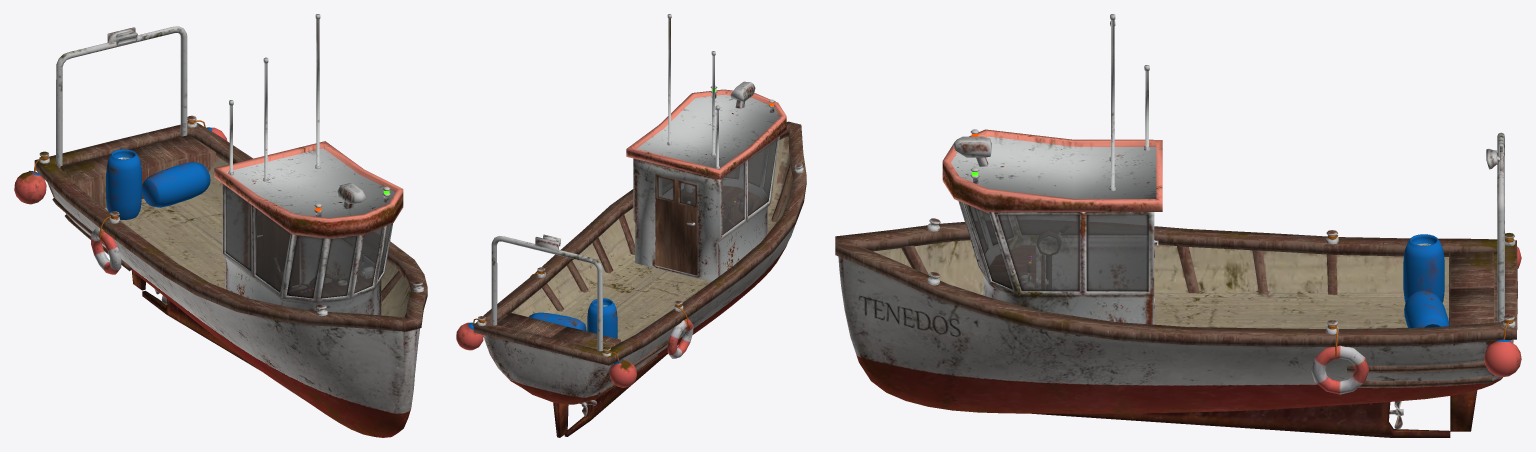
The model's file is fishing-boat.glb.
3 renders of one model, left to right at view 1: azimuth 30°, elevation 25°; view 2: azimuth 150°, elevation 25°; view 3: azimuth 270°, elevation 25°, orthographic. The views are drawn at different scales.
Parts seen in each view (by area): view 1: Cube.022_Metal_0, Cube.022_Wood_0, Cube.022_MainColor_0, Cube.022_Glass_0, Cube.022_Plastic_0; view 2: Cube.022_Wood_0, Cube.022_Metal_0, Cube.022_MainColor_0, Cube.022_Glass_0, Cube.022_Plastic_0; view 3: Cube.022_MainColor_0, Cube.022_Wood_0, Cube.022_Metal_0, Cube.022_Glass_0, Cube.022_Plastic_0.
Boxes of the visible parts, box(x1,y1,x2,y2) form: Cube.022_Metal_0: box(39, 14, 423, 315); Cube.022_Wood_0: box(34, 123, 427, 331); Cube.022_MainColor_0: box(47, 182, 419, 437); Cube.022_Glass_0: box(225, 186, 391, 298); Cube.022_Plastic_0: box(14, 120, 345, 290); Cube.022_Wood_0: box(473, 121, 806, 395); Cube.022_Metal_0: box(477, 14, 803, 416); Cube.022_MainColor_0: box(483, 226, 794, 437); Cube.022_Glass_0: box(657, 138, 777, 234); Cube.022_Plastic_0: box(456, 201, 738, 387); Cube.022_MainColor_0: box(838, 256, 1513, 437); Cube.022_Wood_0: box(835, 222, 1517, 388); Cube.022_Metal_0: box(927, 14, 1515, 429); Cube.022_Glass_0: box(960, 201, 1148, 291); Cube.022_Plastic_0: box(1023, 234, 1521, 394).
Size of the model in its own units: 185 by 323 by 460.
Materials: 7 (5 with a texture image).
